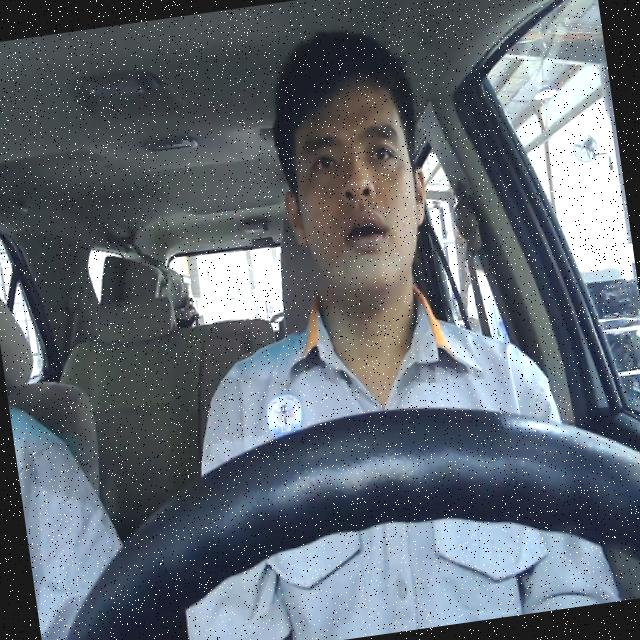yarning: (264, 68, 441, 304)
